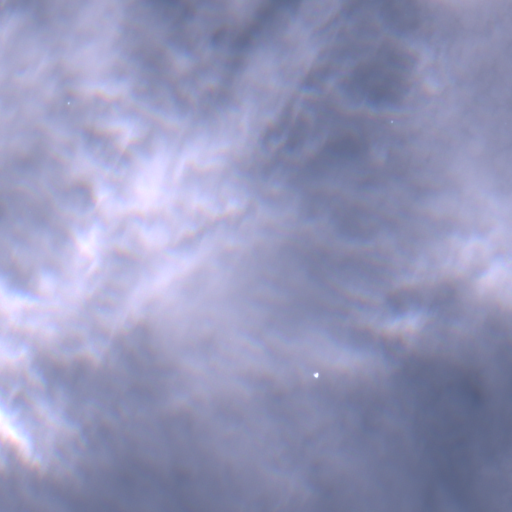Iceberg: (313, 372, 318, 377), (68, 102, 69, 104), (391, 121, 392, 122)
